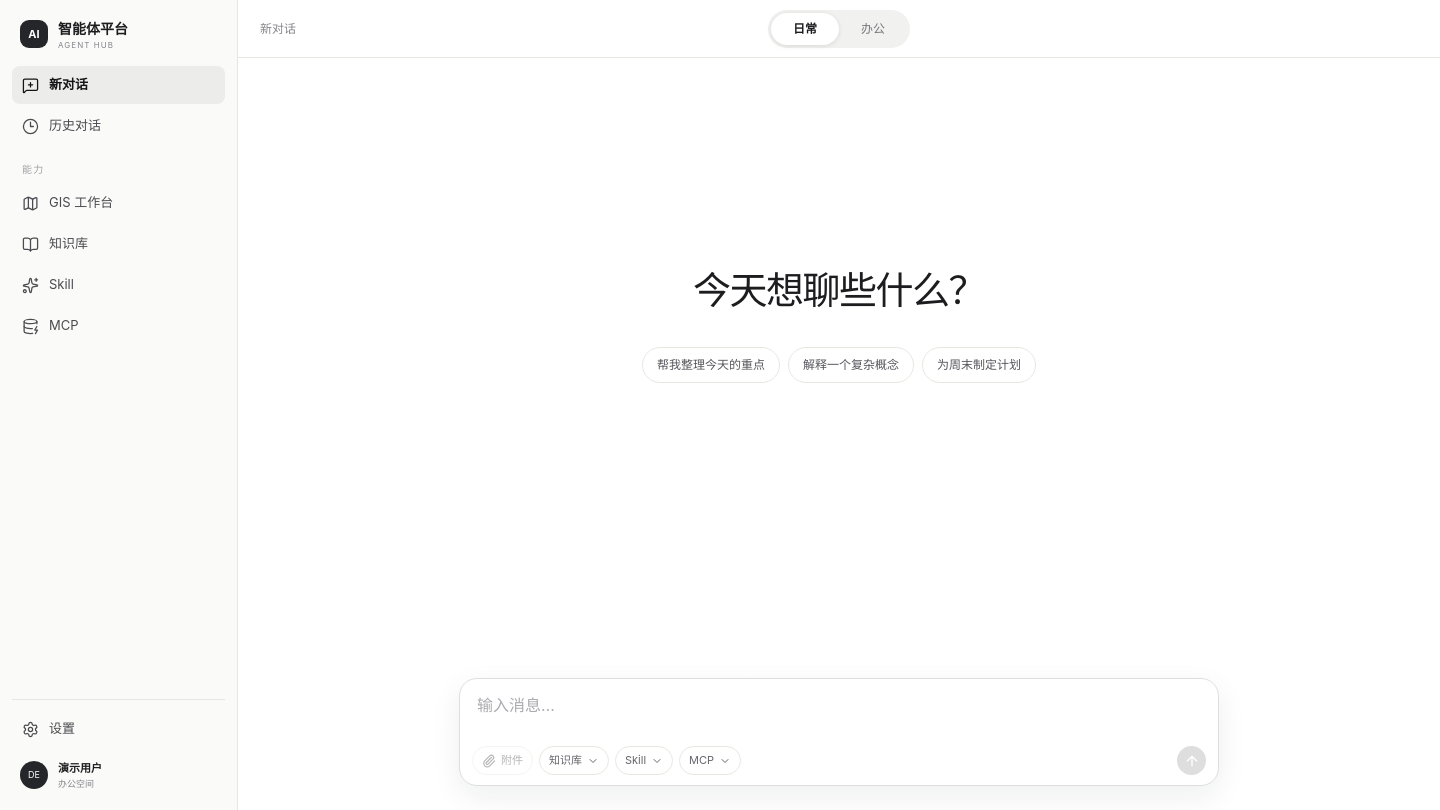
it: ChatPage › replaces activity text instead of stacking internal steps
Type "分析本周风险" into the text box labelled "消息" at (839, 718), box [472,690,1206,746]
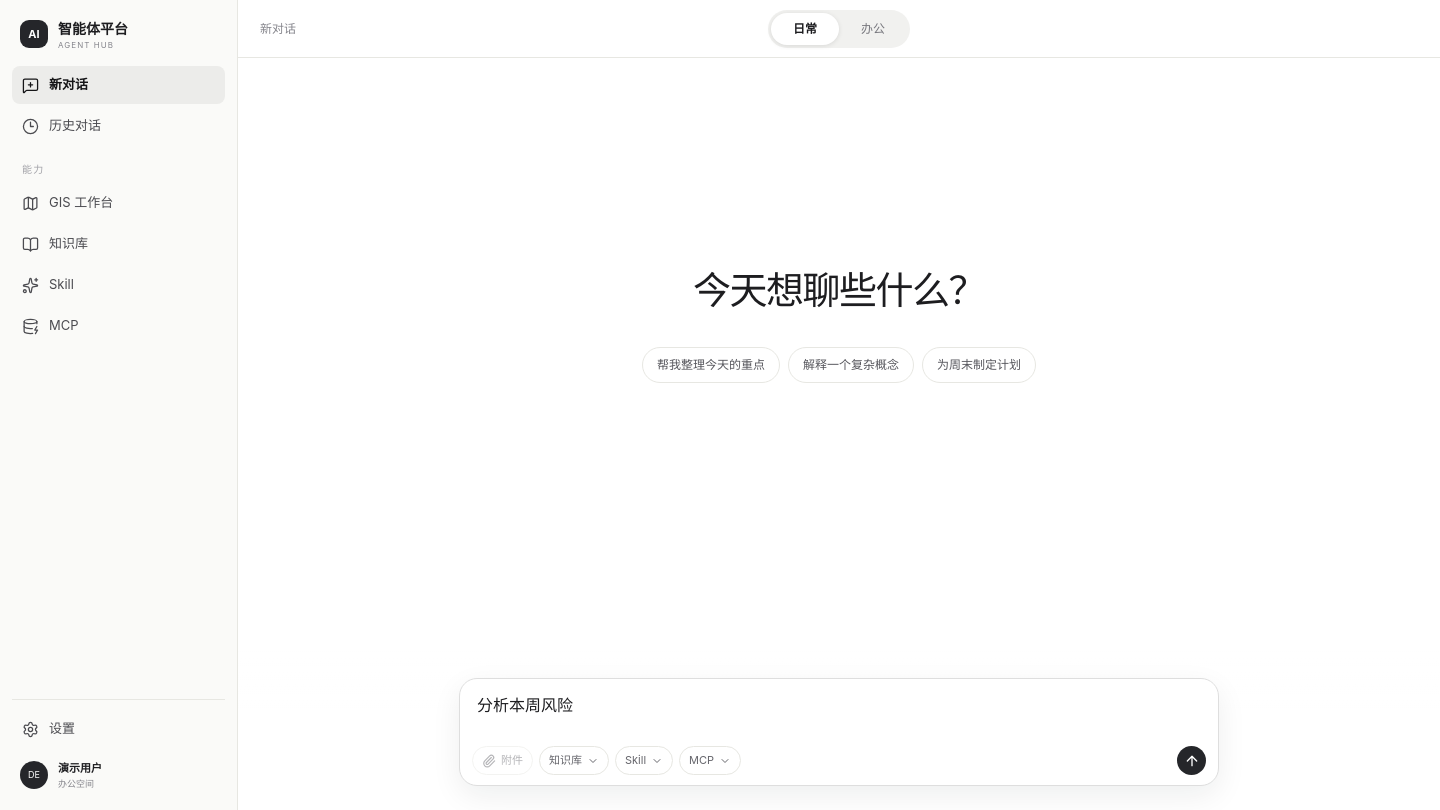
Click the button named "发送" at (1192, 760), box [1177,746,1206,775]
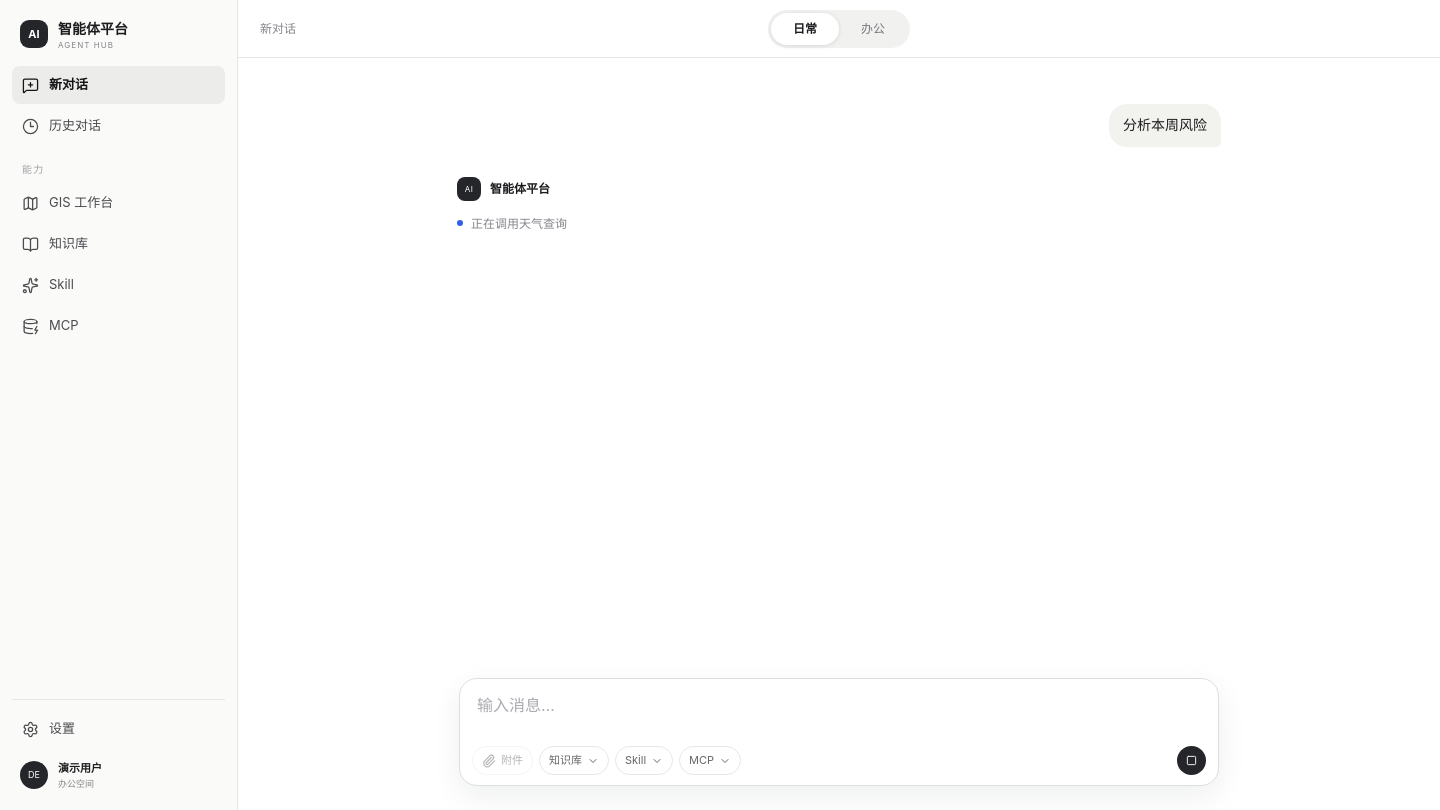
Expected: the text "正在调用天气查询" is shown, [471,212,567,234]
